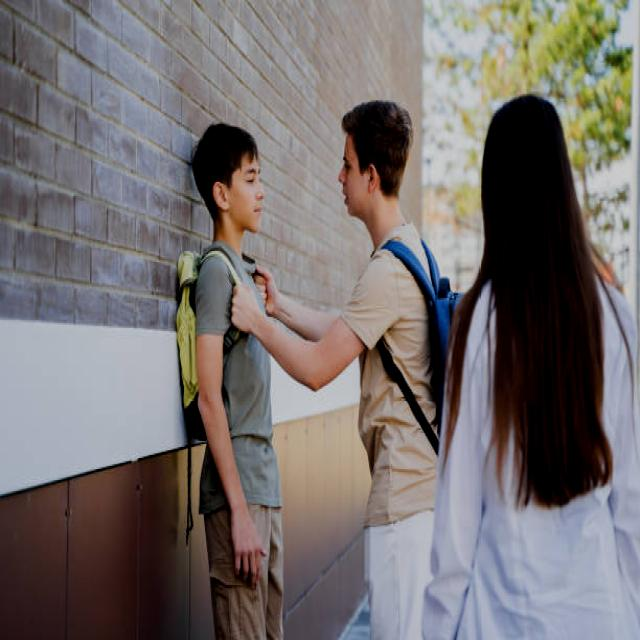fight: (176, 93, 441, 636)
